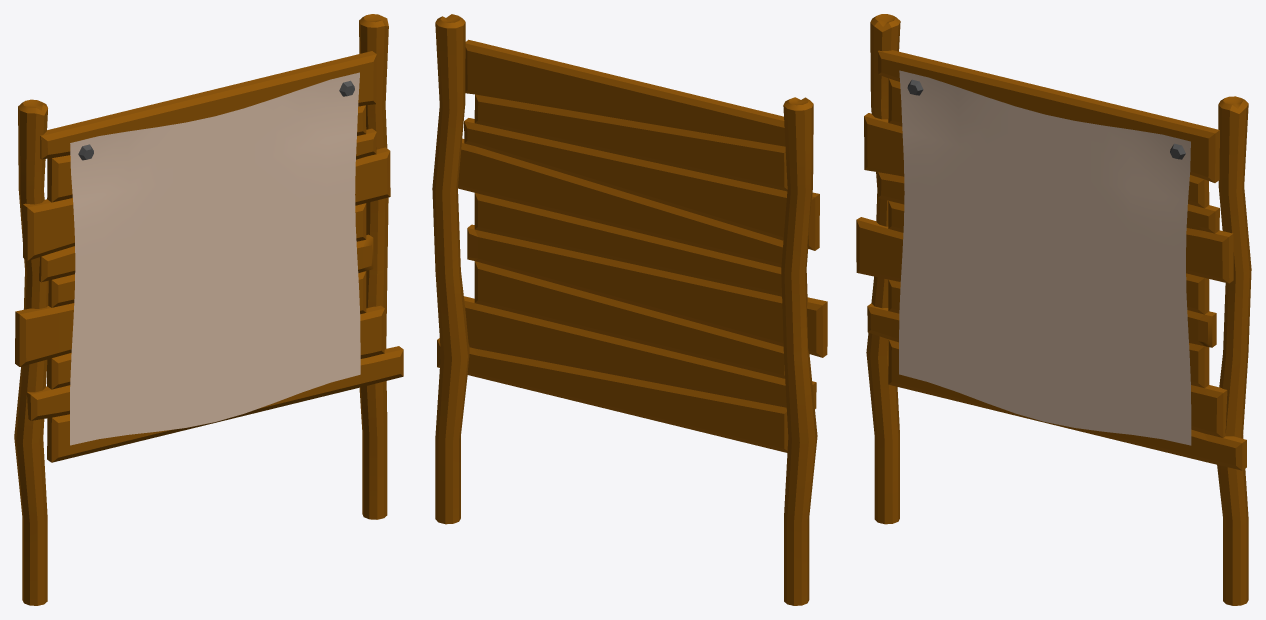
The model's file is panneau_score.fbx.
The picture shows the model from 3 angles, left to right: view 1: azimuth 30°, elevation 25°; view 2: azimuth 150°, elevation 25°; view 3: azimuth 330°, elevation 25°; orthographic projection.
Visible parts, largest first — view 1: pPlane1, pCube7, pCylinder4, pCylinder5; view 2: pCube7, pCylinder5, pCylinder4; view 3: pPlane1, pCube7, pCylinder5, pCylinder4.
Part boxes in pixels (bbox=[...]): pPlane1: bbox=[70, 72, 360, 445]; pCube7: bbox=[15, 51, 403, 462]; pCylinder4: bbox=[14, 99, 48, 605]; pCylinder5: bbox=[359, 14, 388, 519]; pCube7: bbox=[437, 39, 827, 452]; pCylinder5: bbox=[432, 14, 469, 524]; pCylinder4: bbox=[781, 97, 817, 605]; pPlane1: bbox=[899, 70, 1191, 445]; pCube7: bbox=[856, 50, 1246, 470]; pCylinder5: bbox=[1217, 96, 1251, 605]; pCylinder4: bbox=[866, 14, 900, 524].
Bounding box in the file's own units: 244 × 302 × 27.13.
